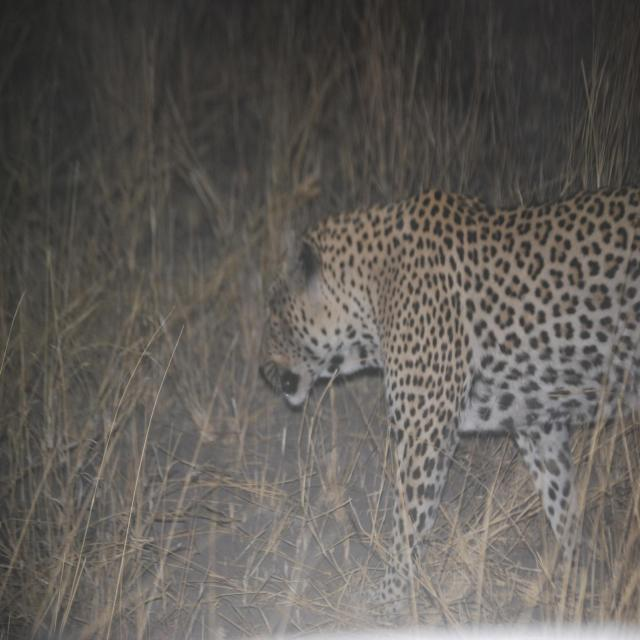Leopard: (246, 186, 640, 615)
